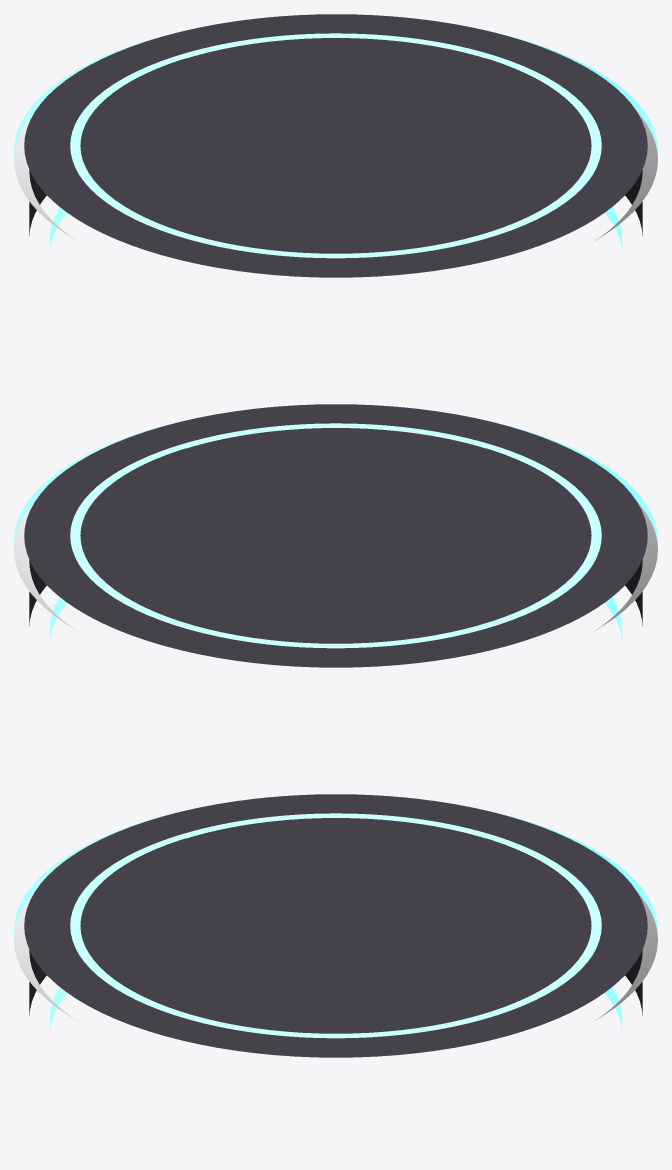
Rendered from podium_onyx.glb.
3 views of the same model, one above another, from view 1: azimuth 30°, elevation 25°; view 2: azimuth 150°, elevation 25°; view 3: azimuth 270°, elevation 25° (orthographic).
Visible parts, largest first — view 1: p8, p6, p7, p3, p4, p2; view 2: p8, p6, p7, p3, p4, p2; view 3: p8, p6, p7, p3, p4, p2.
Part boxes in pixels (x1,y1,x2,y2): p8: [80, 38, 591, 253]; p6: [24, 14, 647, 277]; p7: [70, 33, 601, 257]; p3: [14, 37, 657, 240]; p4: [14, 24, 657, 157]; p2: [29, 58, 642, 235]; p8: [80, 428, 591, 643]; p6: [24, 404, 647, 667]; p7: [70, 423, 601, 647]; p3: [14, 427, 657, 630]; p4: [14, 414, 657, 547]; p2: [29, 448, 642, 625]; p8: [80, 818, 591, 1033]; p6: [24, 794, 647, 1057]; p7: [70, 813, 601, 1037]; p3: [14, 817, 657, 1020]; p4: [14, 804, 657, 937]; p2: [29, 838, 642, 1015].
Bounding box in the file's own units: 2.52 × 0.471 × 2.52.
